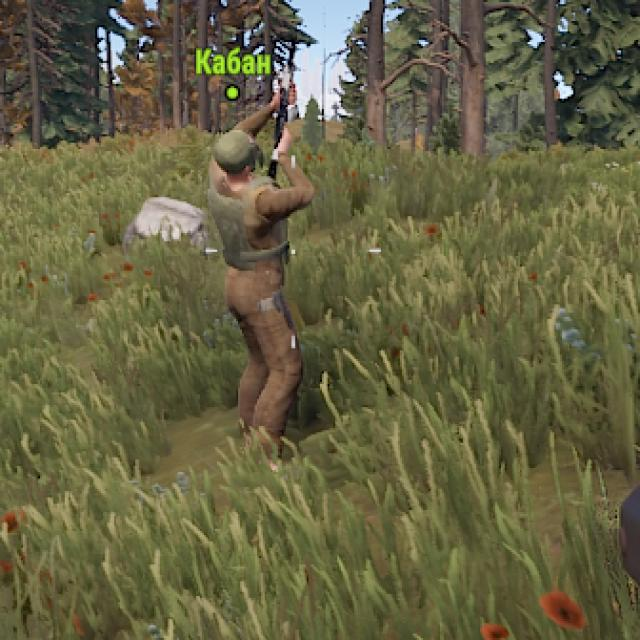Player: (205, 92, 302, 449)
